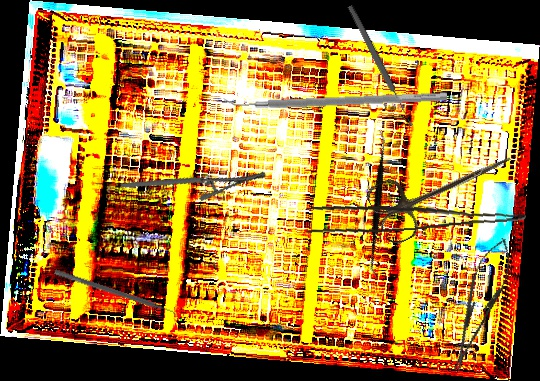Iris Scissors: (363, 127, 523, 248)
Needle Holder: (119, 135, 269, 224), (440, 233, 520, 376)
Spatula Surgical: (314, 128, 444, 279), (222, 82, 448, 113), (52, 269, 180, 320)
Surgical Spoon: (346, 4, 415, 128)
Tissue Forceps: (302, 188, 527, 240)
